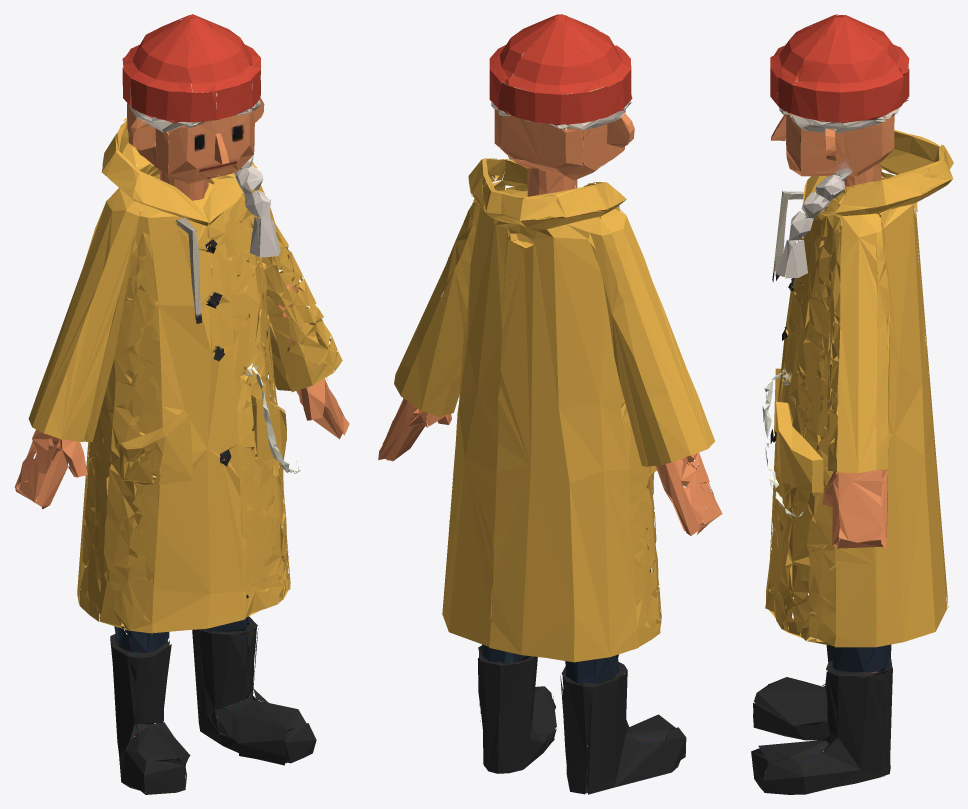
3 renders of one model, left to right at view 1: azimuth 30°, elevation 25°; view 2: azimuth 150°, elevation 25°; view 3: azimuth 270°, elevation 25°, orthographic. The views are drawn at different scales.
Parts seen in each view (by area): view 1: world; view 2: world; view 3: world.
Boxes of the visible parts, box(x1,y1,x2,y2) form: world: box(14, 14, 349, 794); world: box(378, 14, 722, 794); world: box(751, 14, 953, 794).
Size of the model in its own units: 0.4533 by 1 by 0.2501.
1 material, 1 textured.
